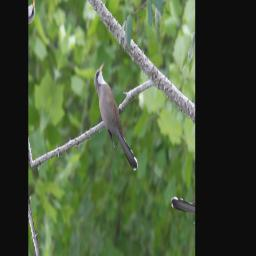Cuckoo: (81, 57, 155, 176)
